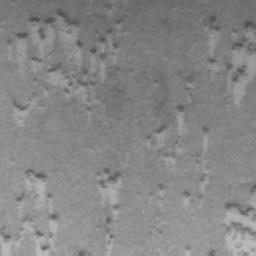Oxide scale of temperature system: (5, 8, 123, 124), (145, 102, 211, 209), (0, 168, 58, 256), (206, 14, 256, 101), (223, 184, 256, 256), (95, 166, 124, 227), (156, 183, 165, 196), (76, 250, 87, 256)
